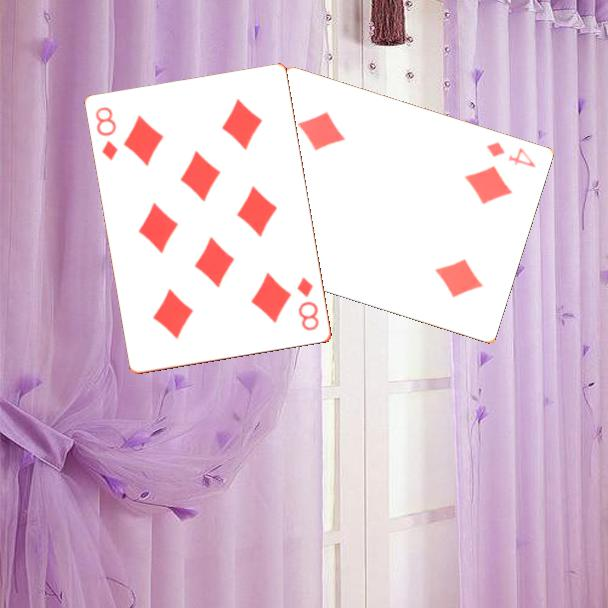d04: (482, 138, 538, 171)
d08: (92, 103, 121, 164), (294, 274, 322, 334)
